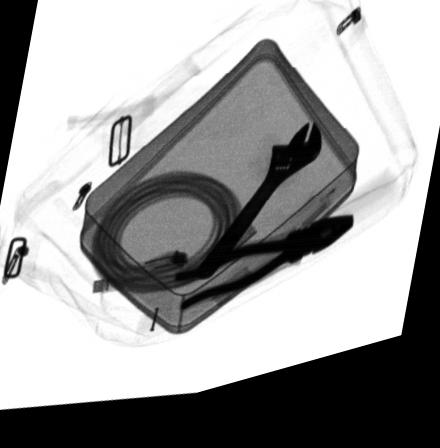Pliers: (173, 232, 354, 322)
Wrench: (194, 138, 321, 292)
